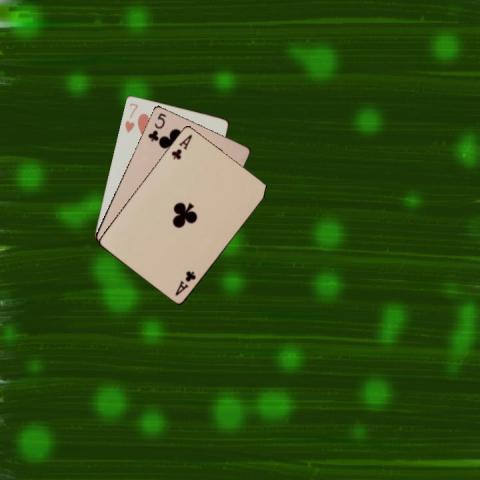5c: (145, 110, 168, 143)
7h: (122, 100, 139, 134)
Ac: (168, 130, 193, 160), (172, 267, 197, 297)
